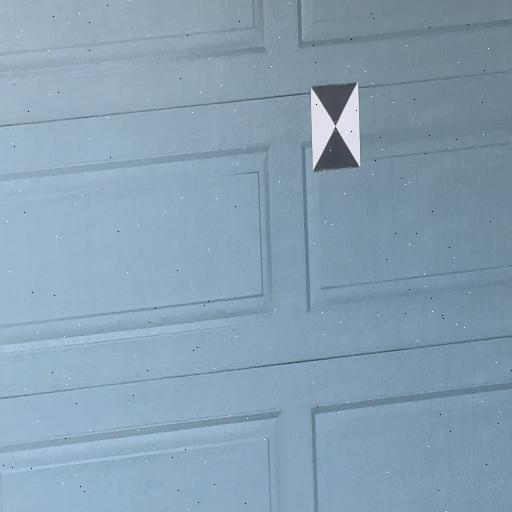target: (311, 84, 361, 170)
